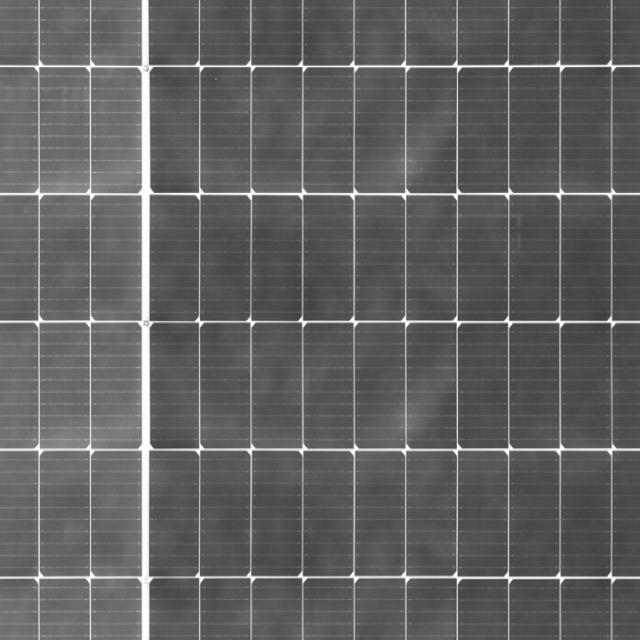CORRECT: (0, 1, 363, 640), (252, 0, 620, 626)
